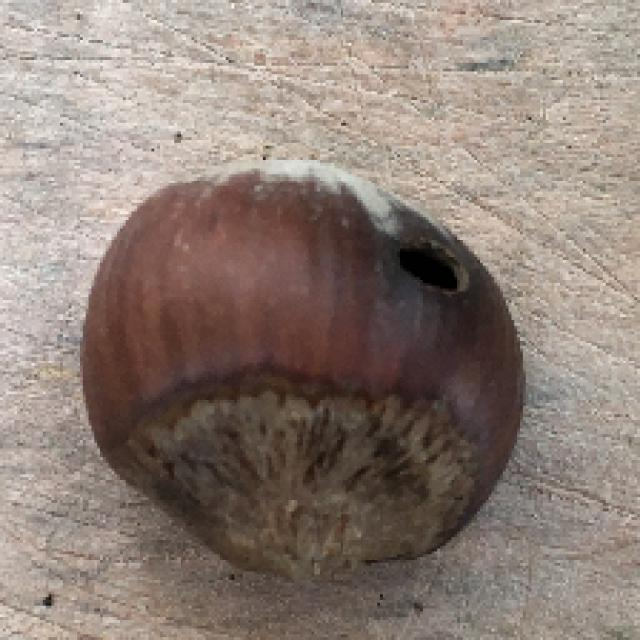damagedHazelnut: (84, 159, 534, 582)
